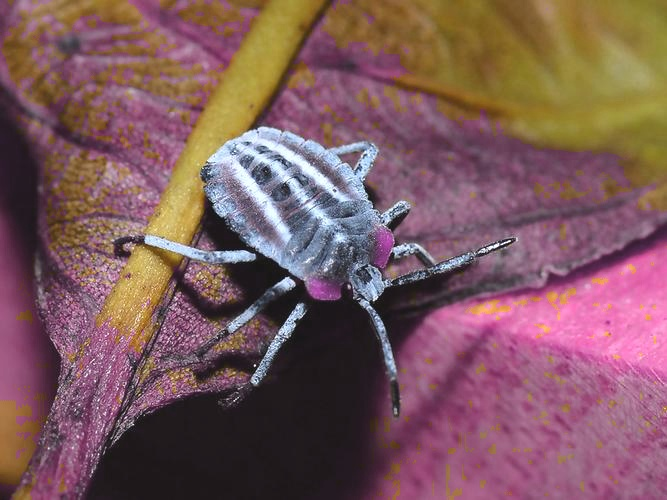Stink_Bug: (195, 120, 439, 312)
